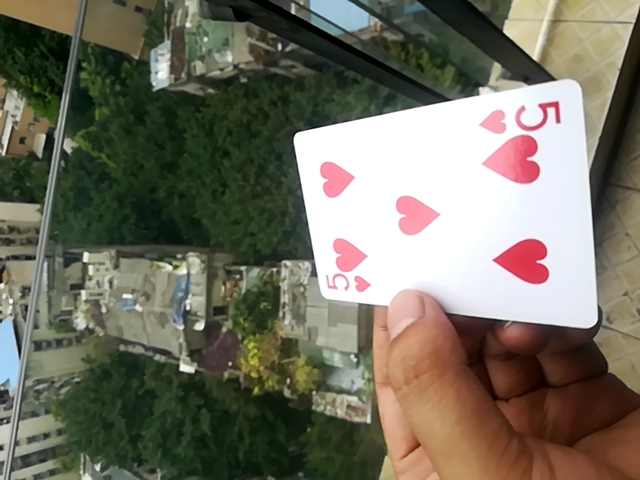hx 5: (289, 77, 605, 330)
